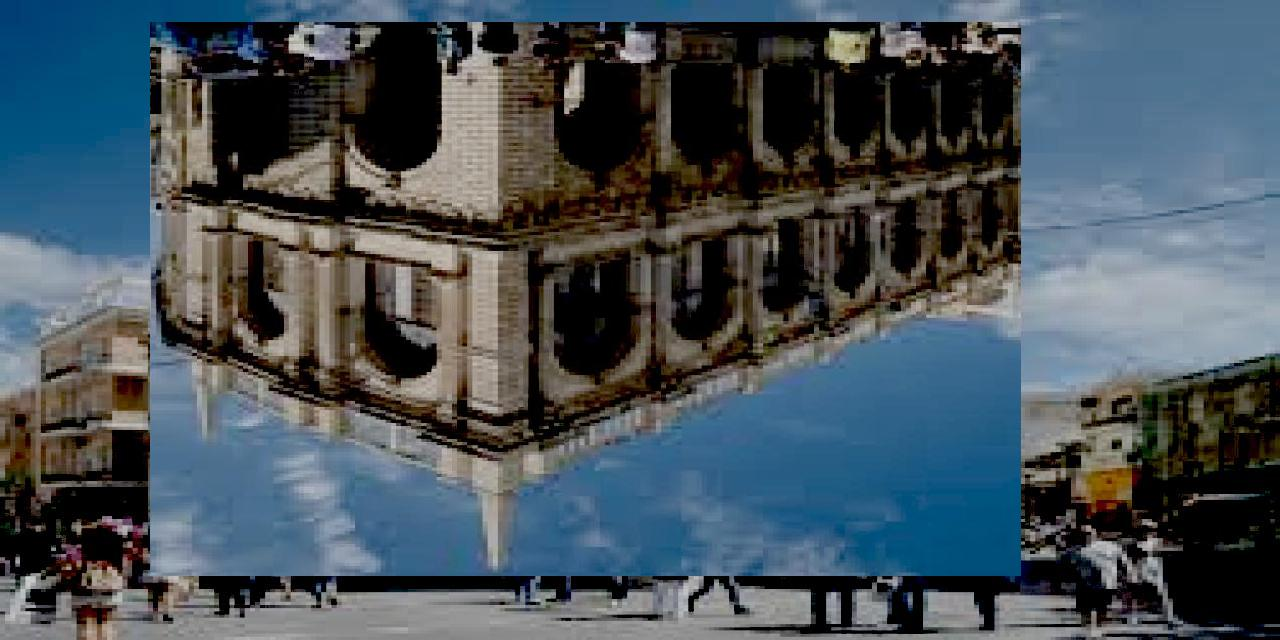Loggia: (151, 23, 1022, 577)
